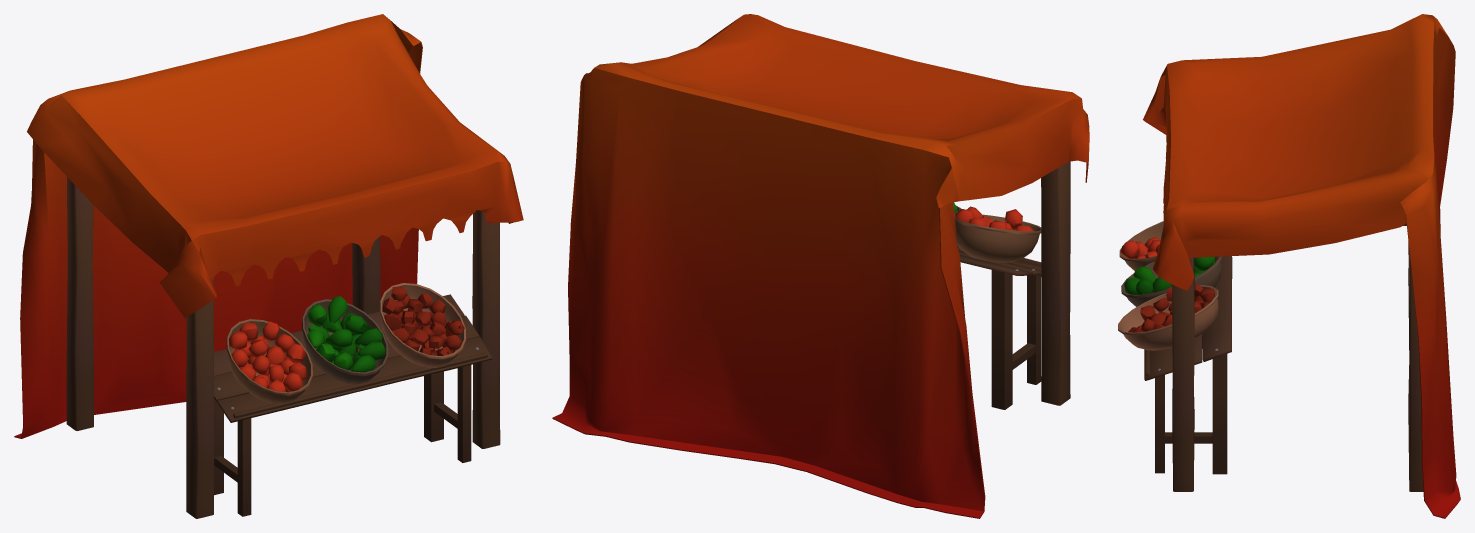
The model's file is Tent_3.fbx.
The picture shows the model from 3 angles, left to right: view 1: azimuth 30°, elevation 25°; view 2: azimuth 150°, elevation 25°; view 3: azimuth 270°, elevation 25°; orthographic projection. The views are drawn at different scales.
Parts seen in each view (by area): view 1: Tent_3; view 2: Tent_3; view 3: Tent_3.
Part boxes in pixels (<box>): Tent_3: <box>14,14,523,518</box>; Tent_3: <box>552,14,1089,518</box>; Tent_3: <box>1118,14,1460,518</box>.
Bounding box in the file's own units: 252 × 203 × 190.
